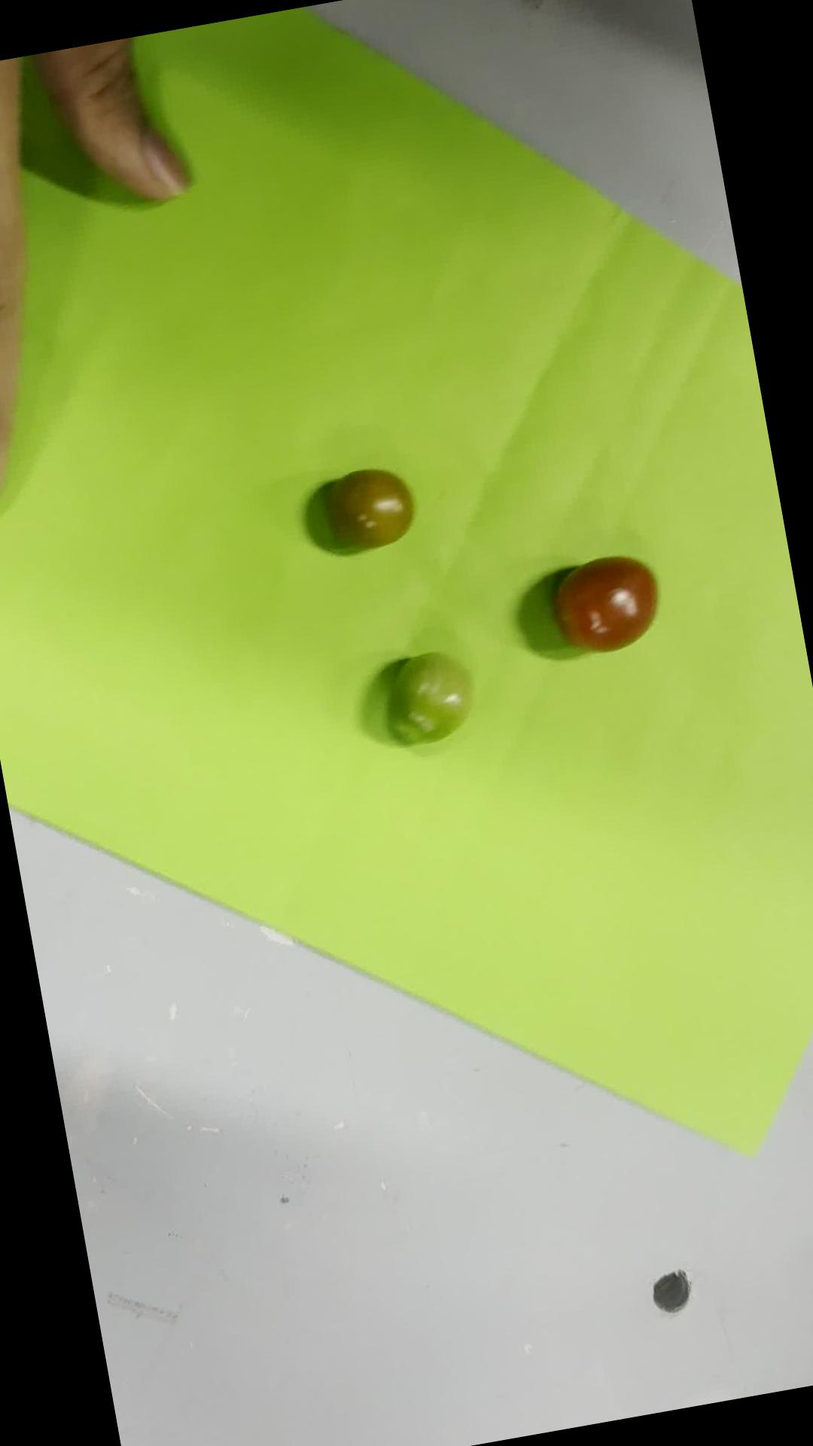green_cherry_tomato: (390, 653, 470, 743)
red_cherry_tomato: (554, 557, 657, 652)
yellow_cherry_tomato: (327, 469, 413, 548)
